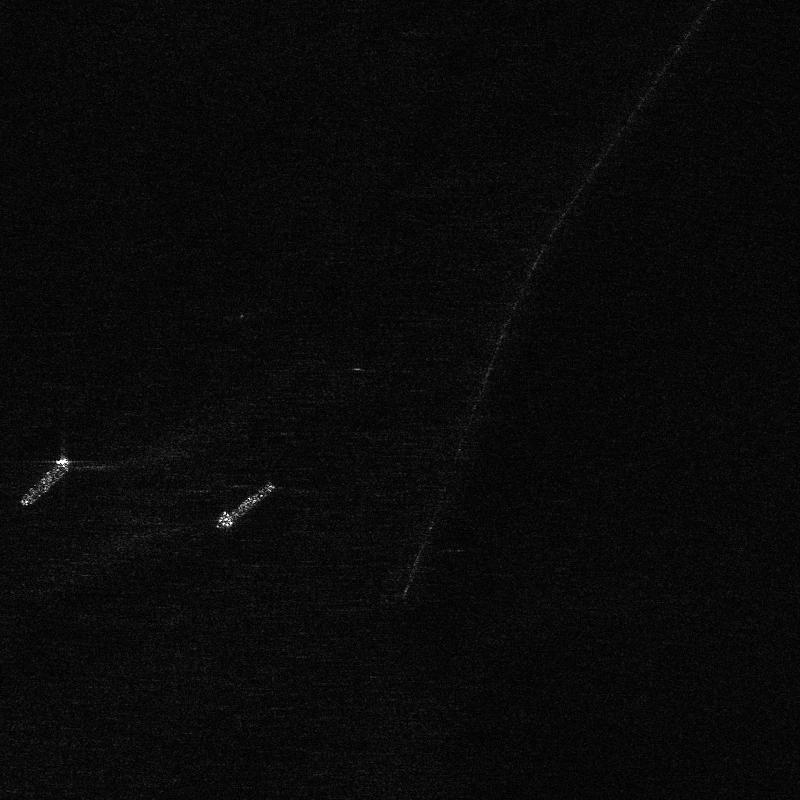ship: (217, 481, 276, 528), (21, 457, 69, 505)
